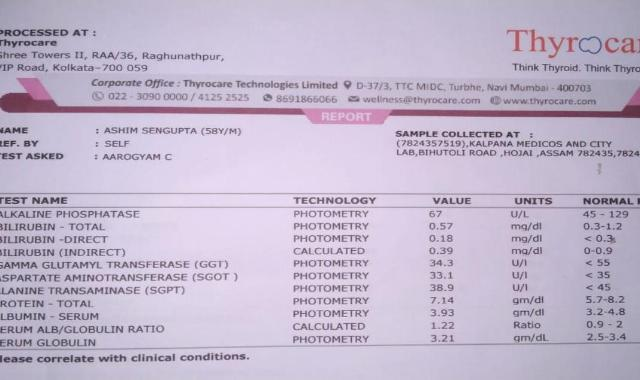Name: (101, 123, 243, 137)
Ref_By: (100, 138, 135, 149)
Reference_Range: (579, 207, 636, 343)
Technology: (288, 208, 378, 347)
Test_Asked: (99, 150, 177, 165)
Test_Name: (1, 206, 245, 352)
Unit: (505, 208, 556, 345)
Value: (426, 208, 467, 345)
